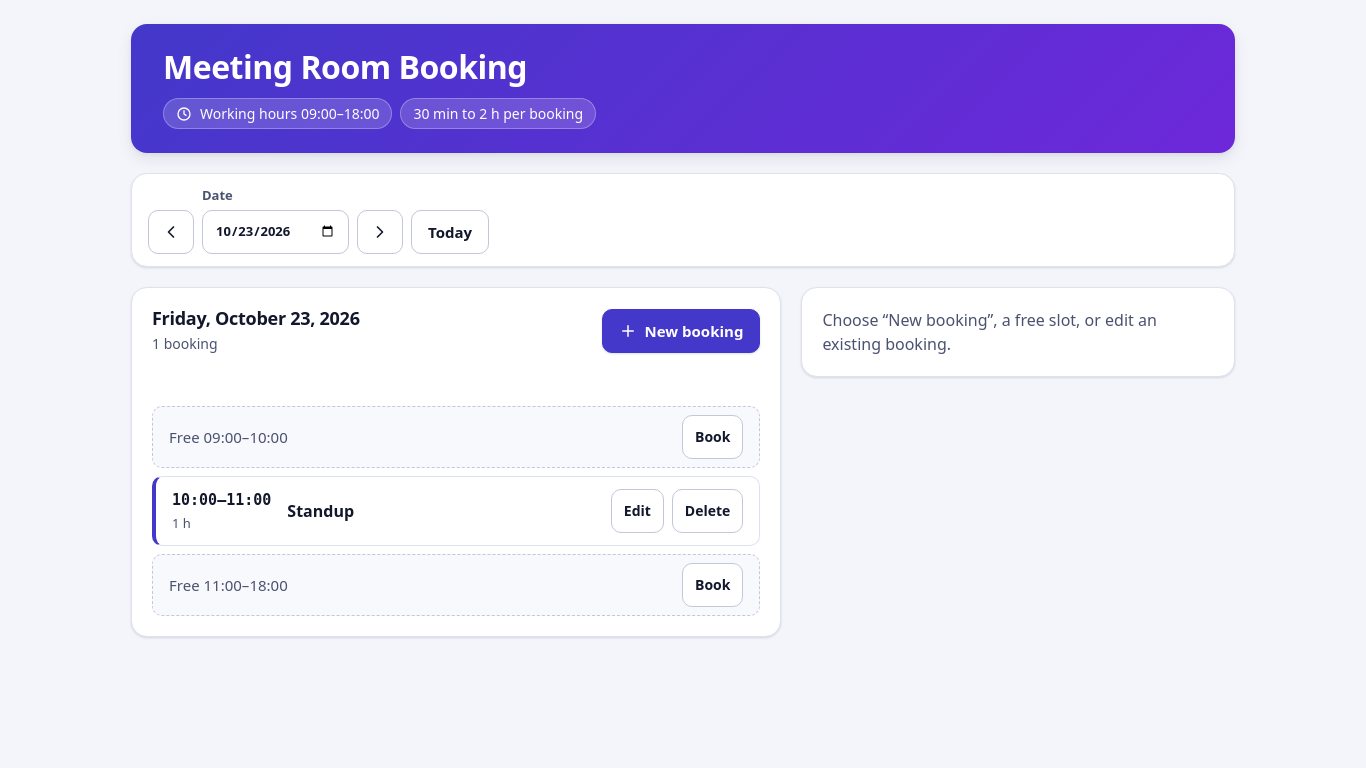
deleting › cancelling leaves the booking alone
Click the button with aria-label "Delete booking" at (708, 512), box [672,490,743,534]
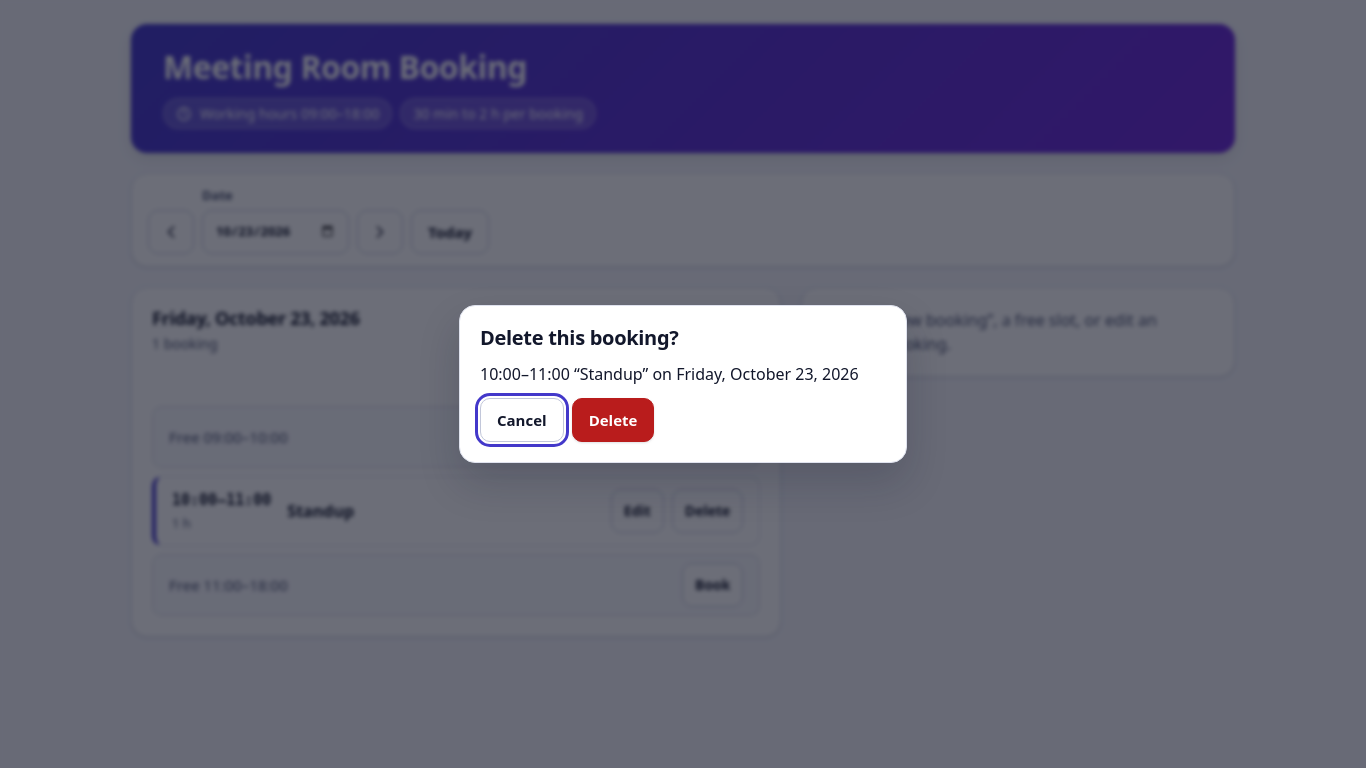
Click the button "Cancel" at (522, 420), box [480,398,564,442]
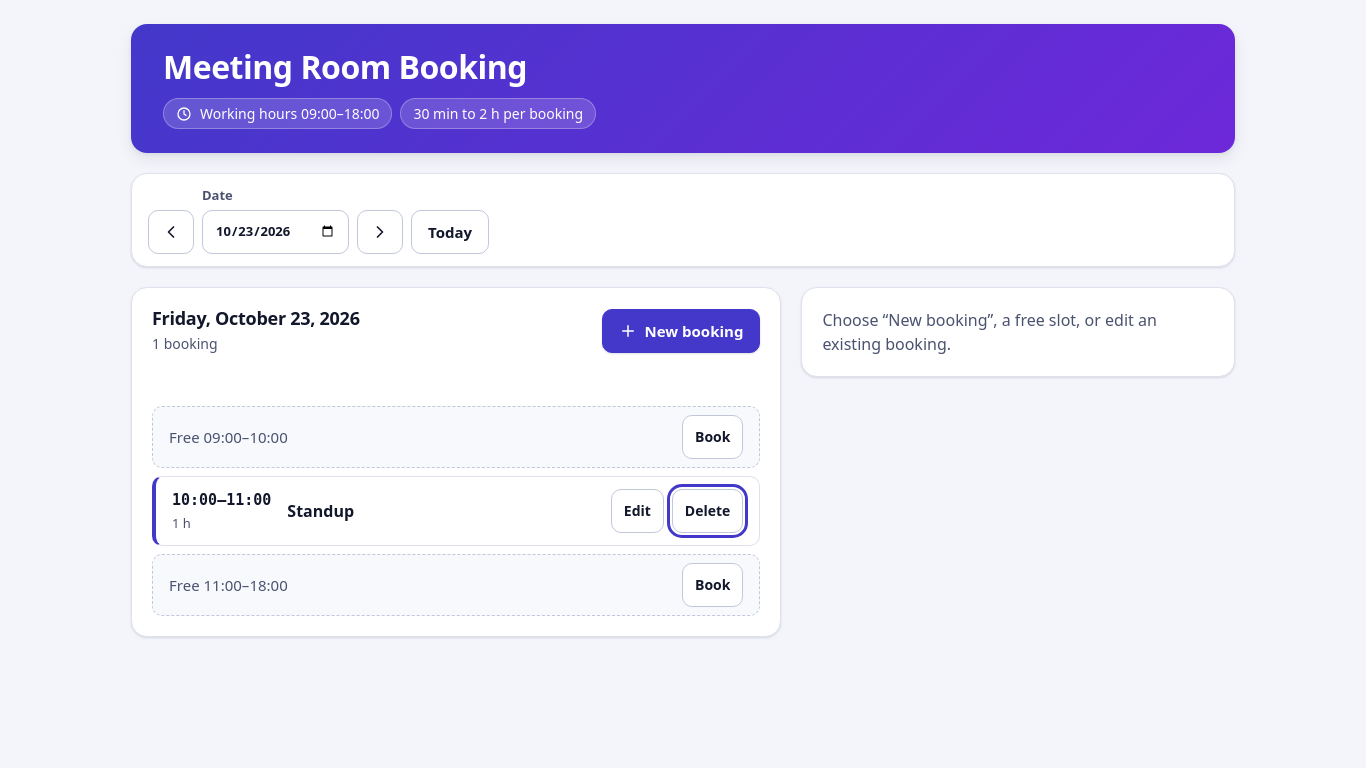
Expected: the dialog is gone
